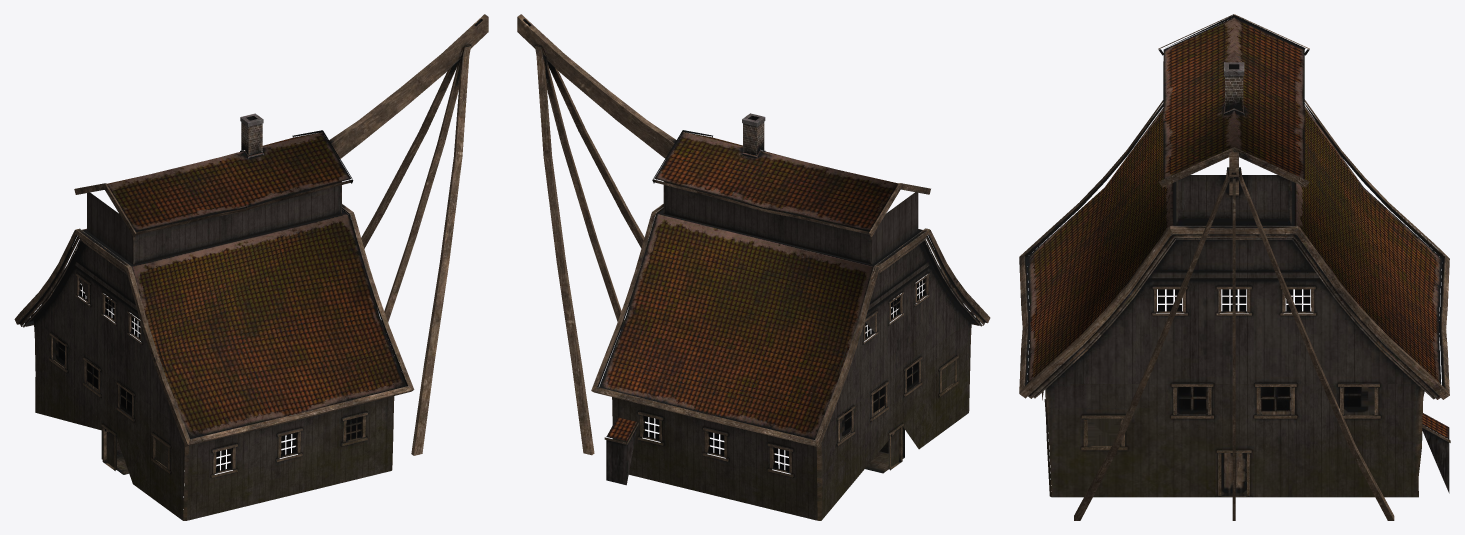
File: crane.glb
3 renders of one model, left to right at view 1: azimuth 30°, elevation 25°; view 2: azimuth 150°, elevation 25°; view 3: azimuth 270°, elevation 25°, orthographic. The views are drawn at different scales.
Parts seen in each view (by area): view 1: remeshed; view 2: remeshed; view 3: remeshed.
Part boxes in pixels (<box>): remeshed: <box>14,14,488,520</box>; remeshed: <box>517,14,990,520</box>; remeshed: <box>1019,14,1450,520</box>.
Size of the model in its own units: 22.41 by 20 by 17.52.
2 materials, 2 textured.
